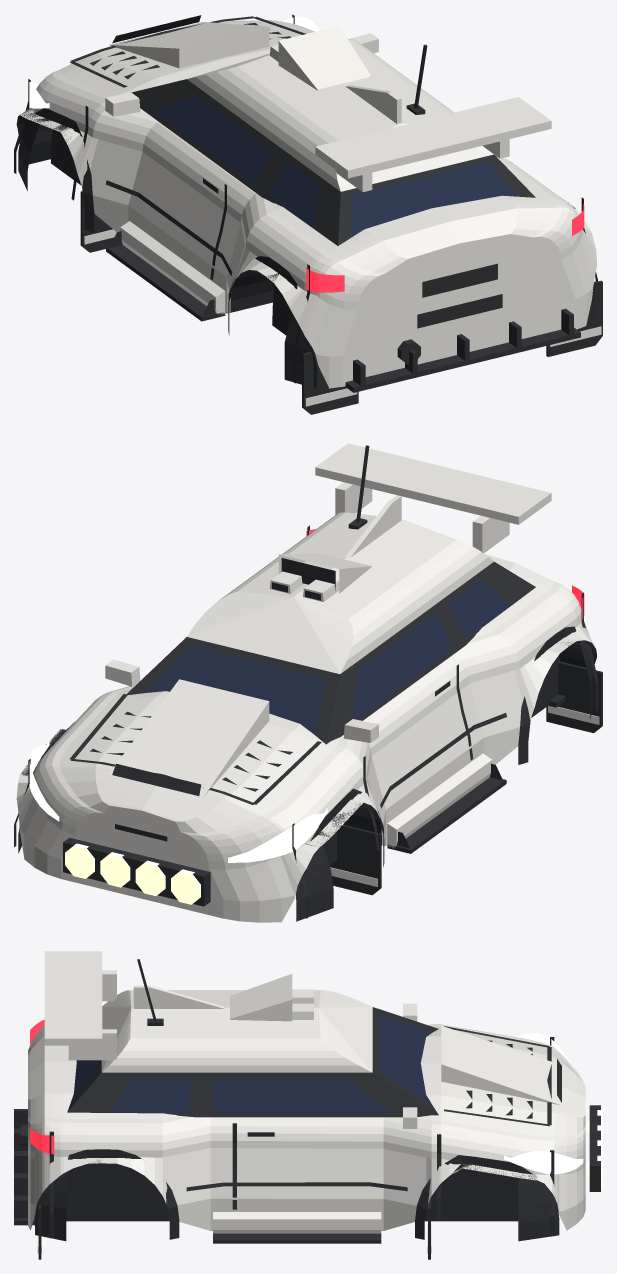
File: Lynx.glb
3 renders of one model, top to bottom at view 1: azimuth 30°, elevation 25°; view 2: azimuth 150°, elevation 25°; view 3: azimuth 270°, elevation 25°, orthographic. The views are drawn at different scales.
Parts seen in each view (by area): view 1: BumperRear, Door_FL, Roof, Opt_Wing_Rally_WingBlade, Fender_RL, Pillars, RearWindow, Opt_Hood_Scoop_HoodScoop, Window_FL, Opt_Diffuser_Race_AccDiffuserRace, Opt_Roof_Scoop_AccRoofScoop, Hood (+23 smaller); view 2: BumperFront, Roof, Fender_RL, Door_FL, Opt_Hood_Scoop_HoodScoop, Hood, Opt_Wing_Rally_WingBlade, Pillars, Windshield, Fender_FL, Opt_Mudflaps_Long_AccMudflapsLong, Window_FL (+25 smaller); view 3: Door_FR, Roof, Fender_RR, WheelWell, Pillars, Opt_Hood_Scoop_HoodScoop, Opt_Wing_Rally_WingBlade, Window_FR, Hood, BumperFront, Fender_FR, Opt_Skirts_Side_AccSkirt_R (+20 smaller).
Boxes of the visible parts, x1=… form: BumperRear: x1=298, y1=204, x2=596, y2=388; Door_FL: x1=73, y1=102, x2=243, y2=282; Roof: x1=187, y1=38, x2=493, y2=191; Opt_Wing_Rally_WingBlade: x1=315, y1=97, x2=551, y2=178; Fender_RL: x1=214, y1=184, x2=340, y2=322; Pillars: x1=131, y1=79, x2=535, y2=245; RearWindow: x1=351, y1=162, x2=517, y2=236; Opt_Hood_Scoop_HoodScoop: x1=109, y1=22, x2=269, y2=68; Window_FL: x1=154, y1=95, x2=274, y2=184; Opt_Diffuser_Race_AccDiffuserRace: x1=345, y1=308, x2=580, y2=392; Opt_Roof_Scoop_AccRoofScoop: x1=278, y1=26, x2=371, y2=90; Hood: x1=59, y1=20, x2=306, y2=95; BumperFront: x1=17, y1=766, x2=302, y2=922; Roof: x1=187, y1=512, x2=493, y2=673; Fender_RL: x1=443, y1=584, x2=595, y2=764; Door_FL: x1=333, y1=662, x2=471, y2=845; Opt_Hood_Scoop_HoodScoop: x1=109, y1=679, x2=269, y2=797; Hood: x1=59, y1=696, x2=332, y2=815; Opt_Wing_Rally_WingBlade: x1=315, y1=443, x2=551, y2=524; Pillars: x1=126, y1=561, x2=535, y2=744; Windshield: x1=145, y1=646, x2=327, y2=733; Fender_FL: x1=260, y1=749, x2=374, y2=874; Opt_Mudflaps_Long_AccMudflapsLong: x1=329, y1=661, x2=602, y2=895; Window_FL: x1=352, y1=613, x2=452, y2=719; Door_FR: x1=232, y1=1117, x2=441, y2=1230; Roof: x1=101, y1=990, x2=372, y2=1072; Fender_RR: x1=49, y1=1116, x2=232, y2=1230; WheelWell: x1=35, y1=1163, x2=558, y2=1221; Pillars: x1=67, y1=1007, x2=438, y2=1117; Opt_Hood_Scoop_HoodScoop: x1=441, y1=1025, x2=561, y2=1105; Opt_Wing_Rally_WingBlade: x1=44, y1=951, x2=102, y2=1045; Window_FR: x1=210, y1=1079, x2=390, y2=1112; Hood: x1=441, y1=1030, x2=554, y2=1136; BumperFront: x1=554, y1=1048, x2=585, y2=1230; Fender_FR: x1=441, y1=1120, x2=554, y2=1195; Opt_Skirts_Side_AccSkirt_R: x1=213, y1=1212, x2=381, y2=1233.
Bounding box in the file's own units: 6.46 × 5.78 × 12.25.
